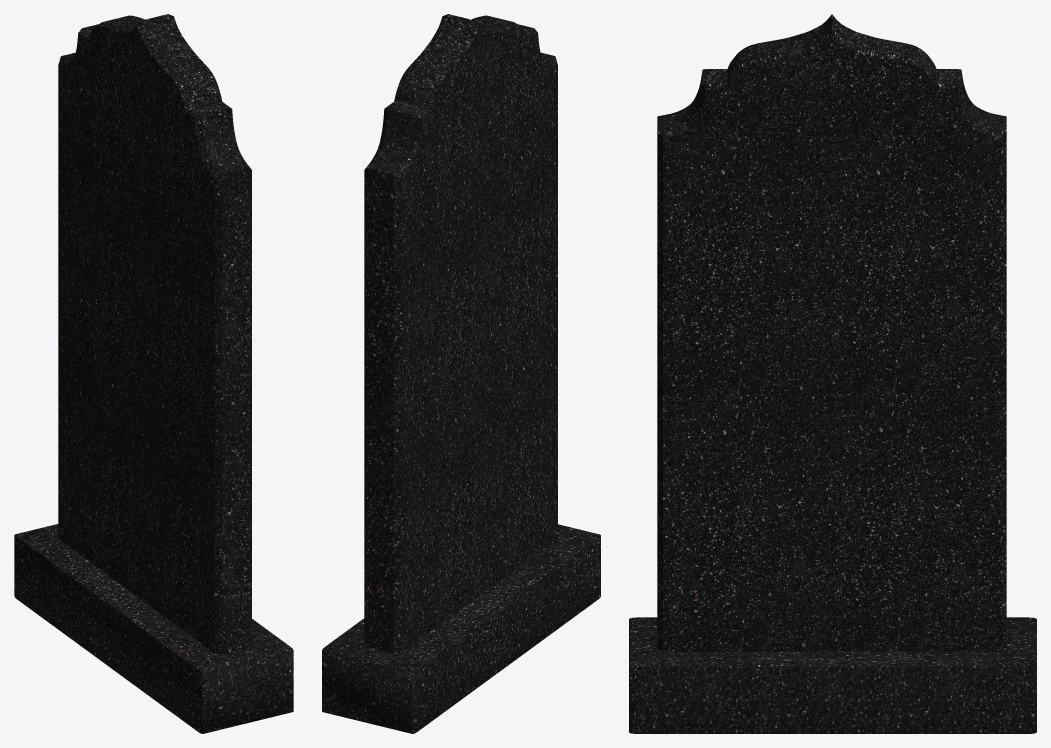
The model's file is Памятник вола Габро [granite_u_u] (120).glb.
The picture shows the model from 3 angles, left to right: view 1: azimuth 30°, elevation 25°; view 2: azimuth 150°, elevation 25°; view 3: azimuth 270°, elevation 25°; orthographic projection. The views are drawn at different scales.
Parts seen in each view (by area): view 1: Cube.062; view 2: Cube.062; view 3: Cube.062.
Boxes of the visible parts, <box> form: Cube.062: <box>14,14,293,733</box>; Cube.062: <box>322,14,600,733</box>; Cube.062: <box>629,14,1036,733</box>.
Bounding box in the file's own units: 0.2 × 1.31 × 0.7.
Materials: 1 (1 with a texture image).
